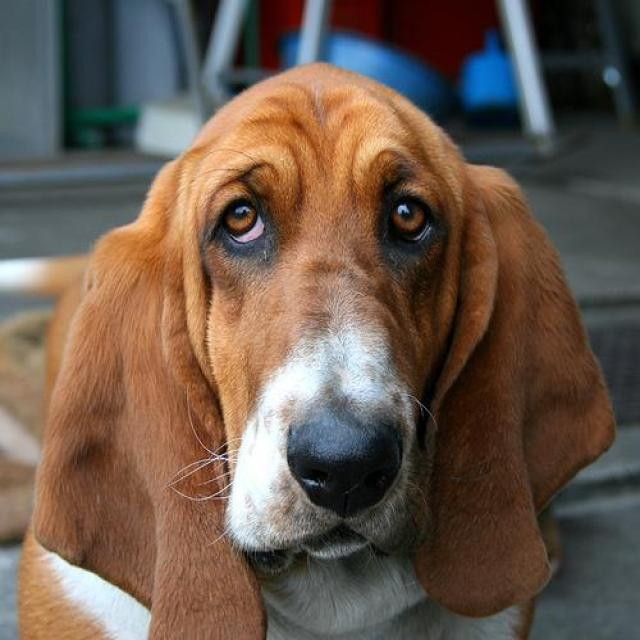basset: (14, 62, 613, 637)
